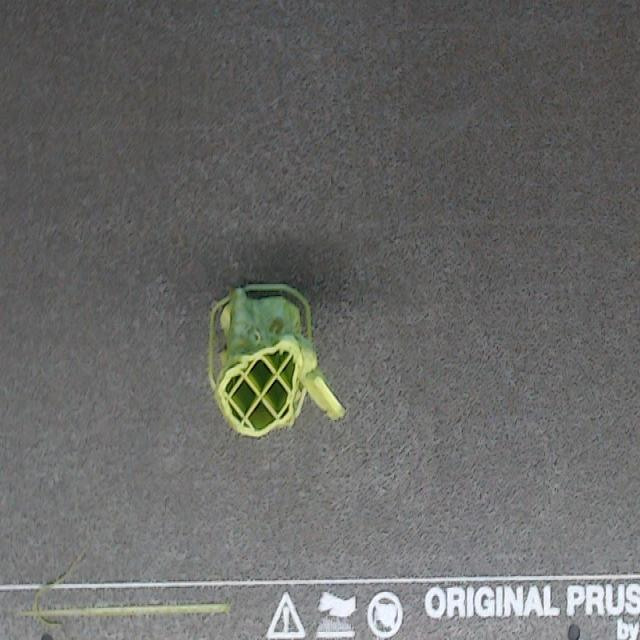mistake: (270, 318, 282, 334), (255, 328, 260, 341)
